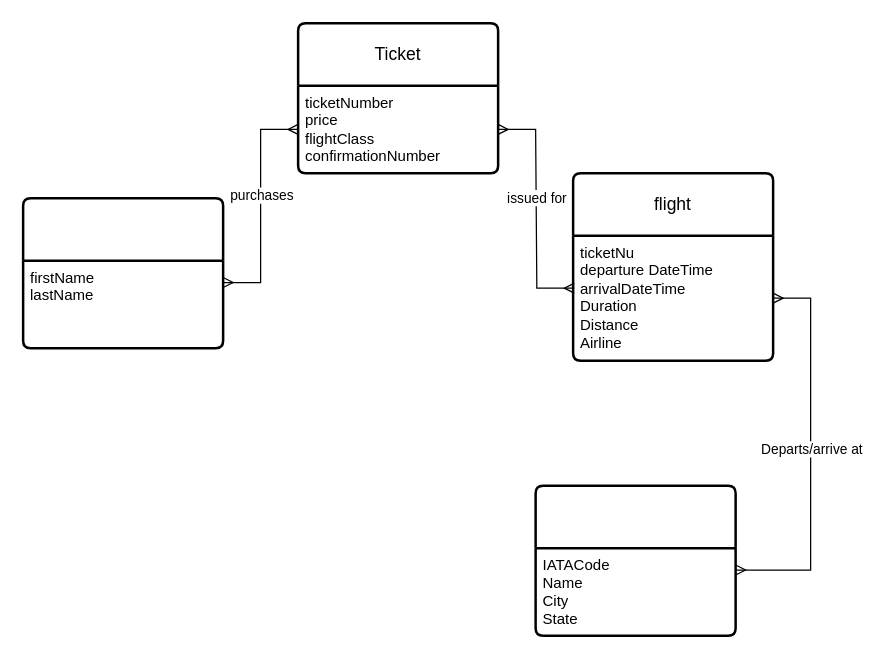
The diagram is 884 pixels wide and 658 high, and some of its shapes have lost their labels. The shapes that lost their labels are listed below. From the top down, each one's box as (x1, y1, x2, y2) in pixels, then its label:
(21, 196, 224, 349): passenger
(534, 484, 736, 636): airport
